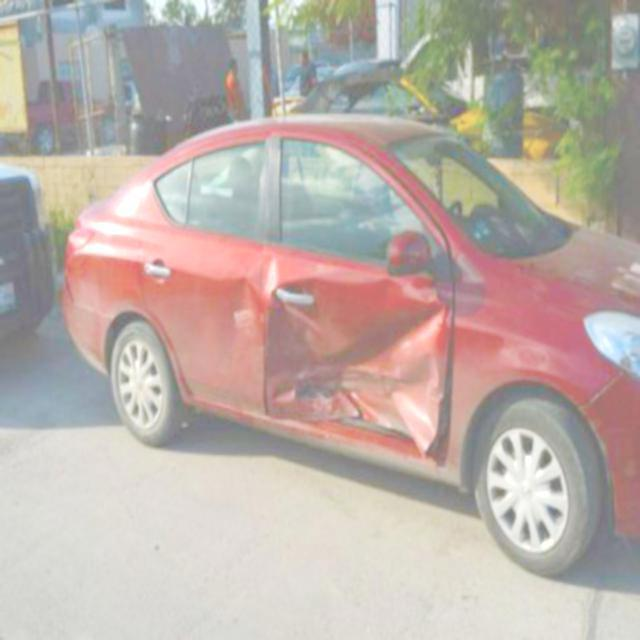minor: (235, 246, 469, 466)
